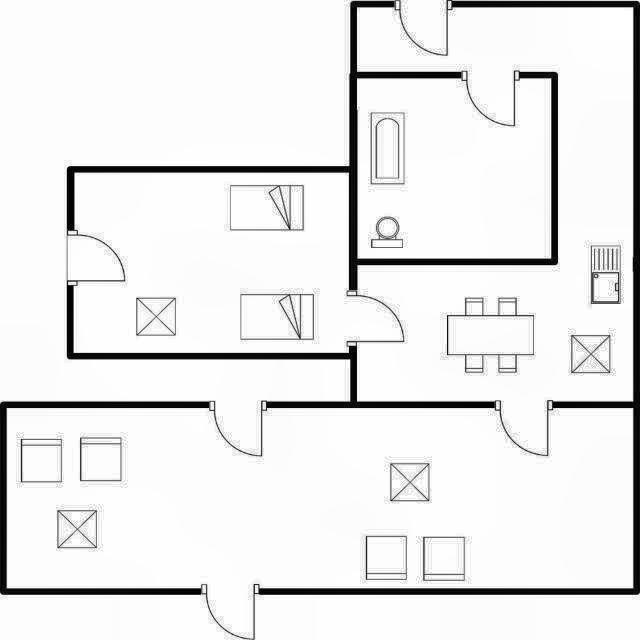room: (7, 408, 633, 588), (357, 7, 633, 402), (74, 172, 349, 353), (357, 78, 551, 259)
